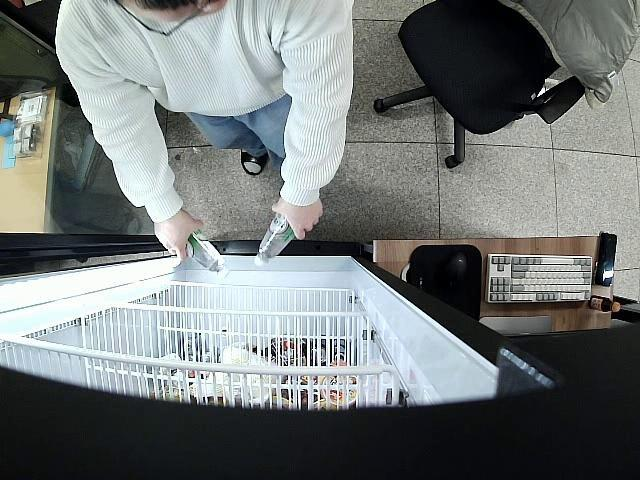18_trevi: (182, 230, 232, 278), (253, 214, 294, 266)
